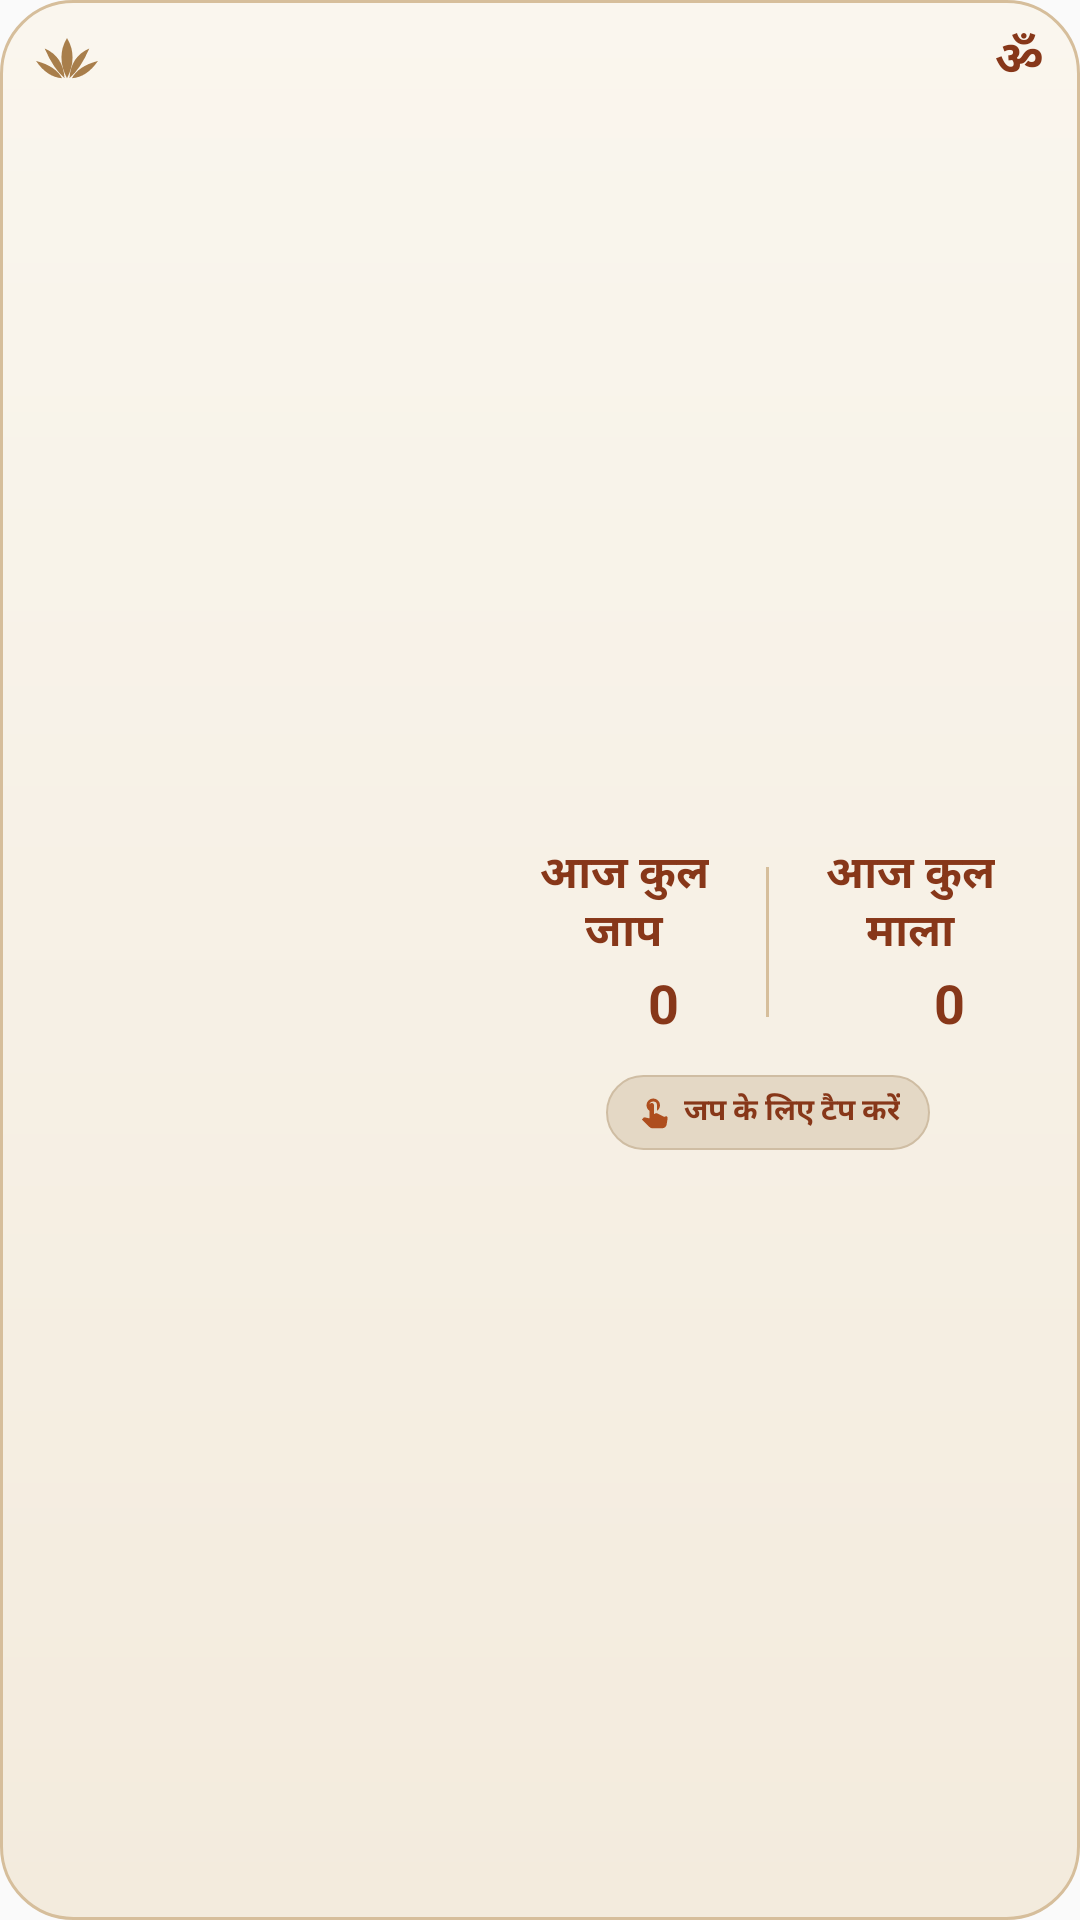

Point at icon controls on the screen. Image size 1080 x 1920, points as (x,y).
Hand Tap: (655,1113)
Lotus: (67,58)
